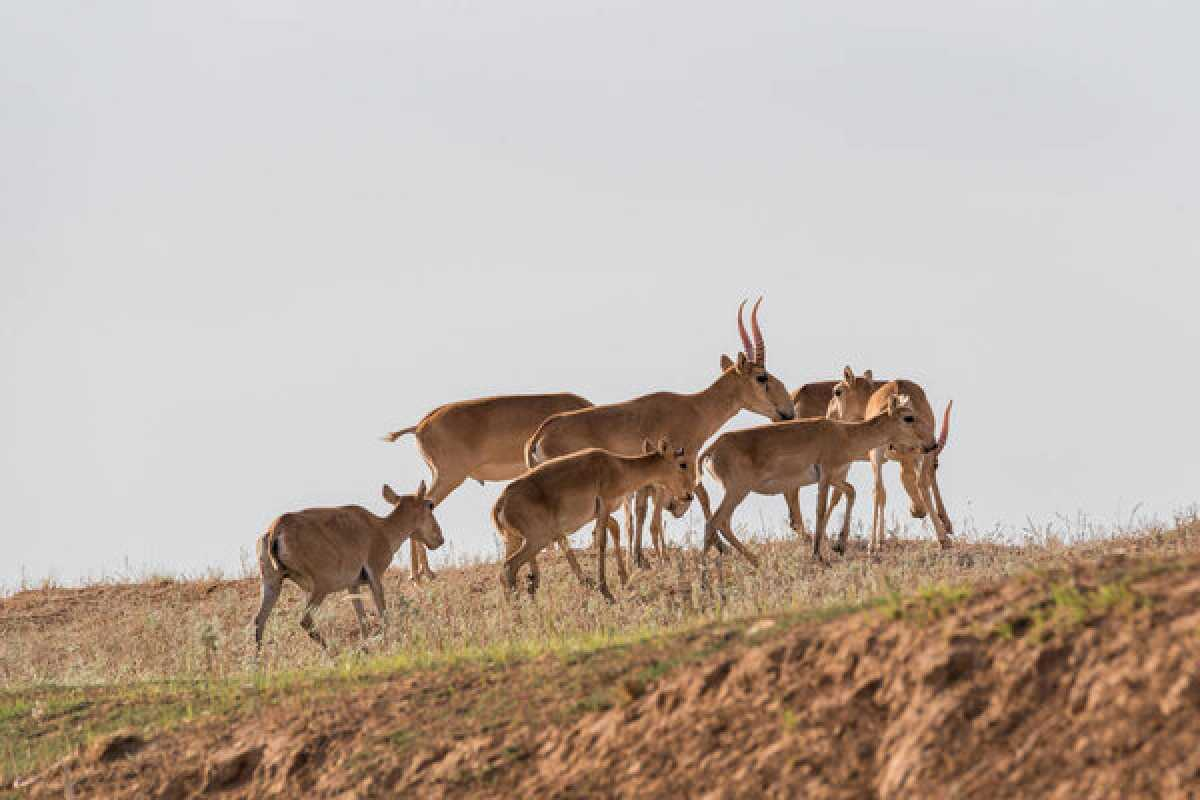saiga: (523, 297, 797, 571), (700, 393, 942, 570), (236, 481, 445, 647), (499, 437, 696, 587)
